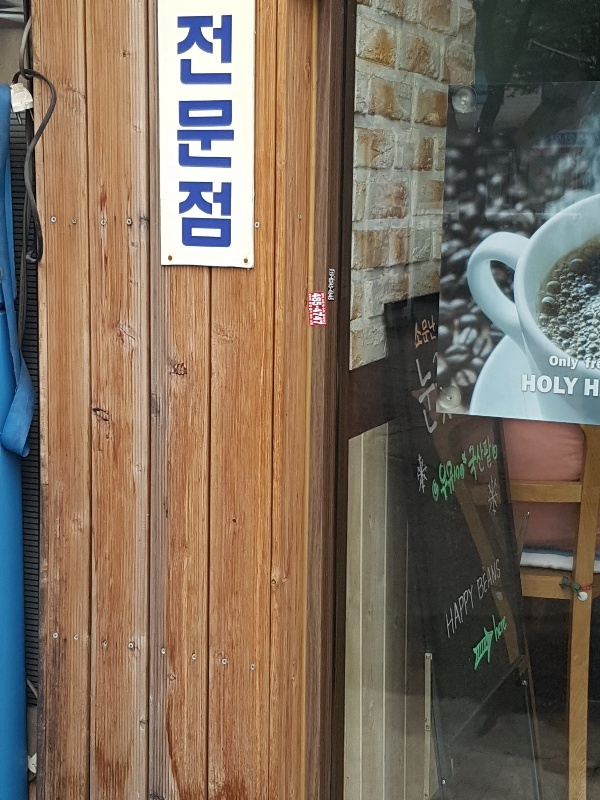text: (177, 14, 192, 251), (193, 14, 208, 251), (209, 14, 224, 251), (225, 14, 235, 251), (417, 355, 432, 439), (449, 580, 464, 645), (449, 451, 464, 510), (466, 433, 480, 490), (481, 557, 496, 603), (481, 433, 493, 490), (465, 580, 475, 645), (417, 312, 432, 353), (438, 451, 448, 510), (433, 355, 440, 439), (322, 292, 336, 325), (497, 614, 508, 647), (309, 293, 320, 326), (529, 374, 544, 397), (545, 374, 560, 397), (561, 374, 576, 397), (312, 292, 320, 325), (444, 580, 448, 645), (413, 355, 416, 439), (329, 268, 336, 301), (497, 557, 502, 603), (561, 356, 576, 371), (476, 557, 480, 603), (549, 356, 560, 371), (433, 312, 437, 353), (585, 379, 592, 399), (522, 374, 528, 397), (492, 614, 496, 647), (593, 379, 599, 399), (465, 451, 467, 510), (321, 292, 324, 325), (585, 357, 592, 370), (414, 312, 416, 353), (577, 374, 580, 397), (593, 357, 597, 370), (577, 356, 579, 371)
